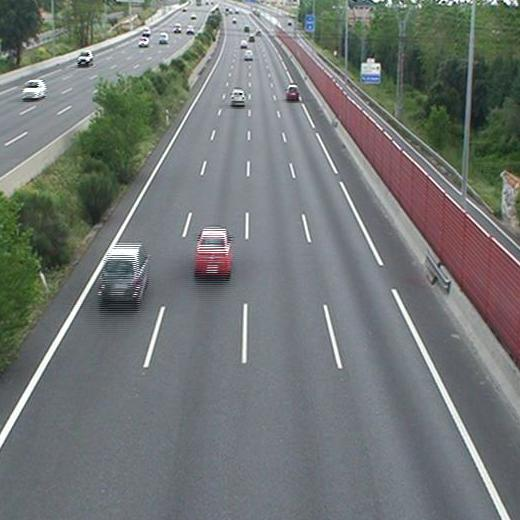car: (100, 248, 147, 301), (195, 228, 231, 275), (231, 89, 244, 106), (287, 85, 300, 99), (243, 50, 253, 60)
